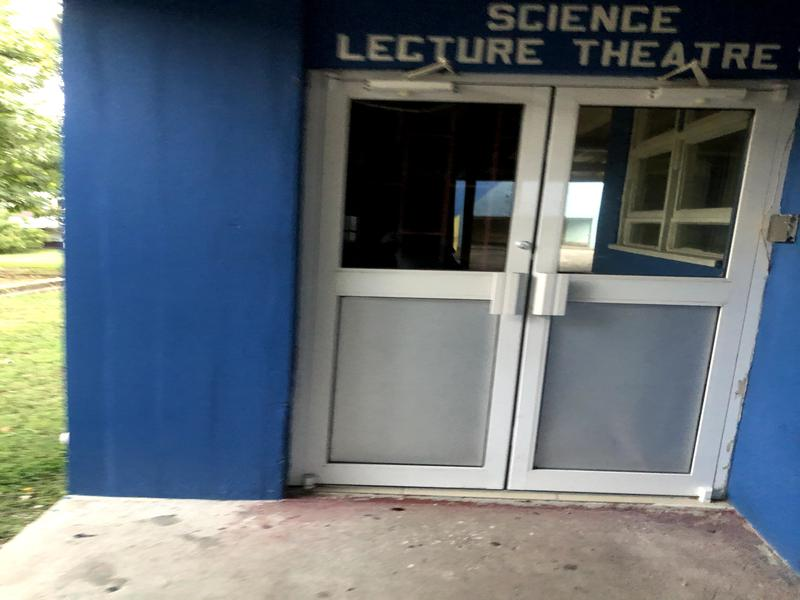18.0051836_-76.7497262_pclt1: (277, 5, 783, 541)
